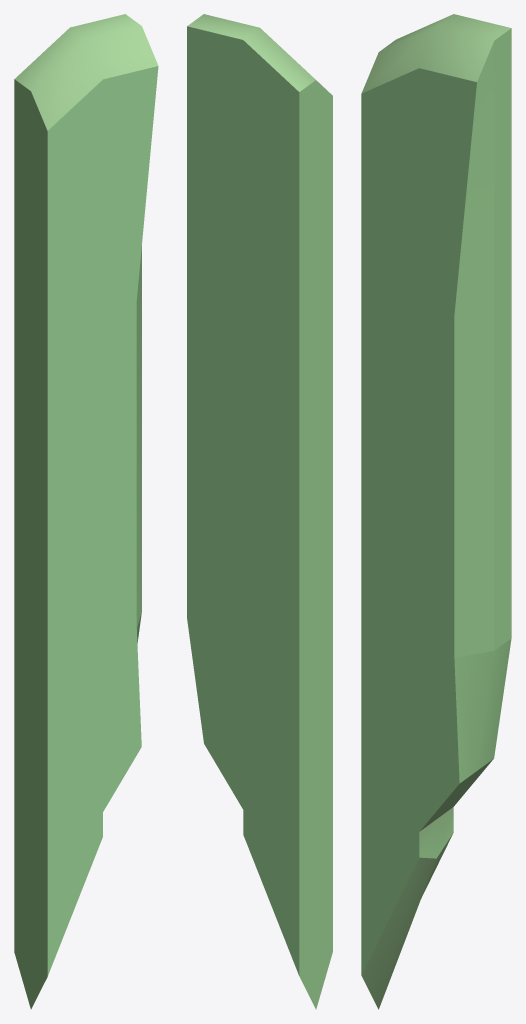
The model's file is CrystalShard.004.glb.
The picture shows the model from 3 angles, left to right: view 1: azimuth 30°, elevation 25°; view 2: azimuth 150°, elevation 25°; view 3: azimuth 330°, elevation 25°; orthographic projection. The views are drawn at different scales.
Parts seen in each view (by area): view 1: CrystalShard.004; view 2: CrystalShard.004; view 3: CrystalShard.004.
Boxes of the visible parts, <box> form: CrystalShard.004: <box>14,14,158,1009</box>; CrystalShard.004: <box>187,14,332,1009</box>; CrystalShard.004: <box>361,14,511,1009</box>.
Bounding box in the file's own units: 129 × 1061 × 66.56.
